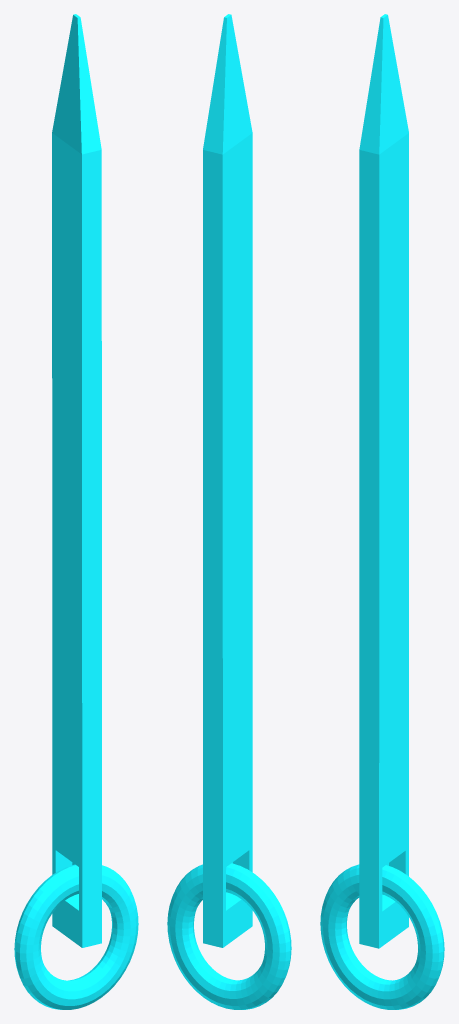
File: IronStick.fbx
The picture shows the model from 3 angles, left to right: view 1: azimuth 30°, elevation 25°; view 2: azimuth 150°, elevation 25°; view 3: azimuth 330°, elevation 25°; orthographic projection.
Parts seen in each view (by area): view 1: Cube, Torus; view 2: Cube, Torus; view 3: Cube, Torus.
Part boxes in pixels (box(x1,y1,x2,y2)): Cube: box(52, 14, 101, 947); Torus: box(14, 864, 138, 1009); Cube: box(203, 14, 252, 947); Torus: box(167, 863, 291, 1009); Cube: box(359, 14, 408, 948); Torus: box(320, 864, 444, 1009).
Bounding box in the file's own units: 280 × 2175 × 120.
